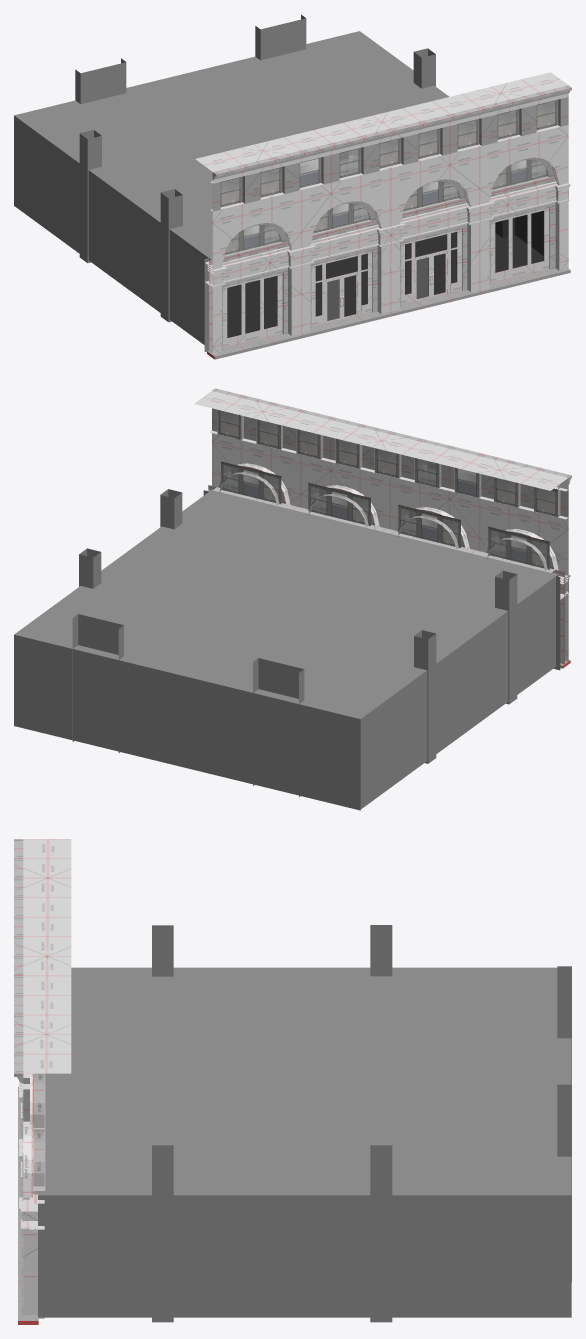
File: B_Shop_03_a.FBX
3 views of the same model, one above another, from view 1: azimuth 30°, elevation 25°; view 2: azimuth 150°, elevation 25°; view 3: azimuth 270°, elevation 25° (orthographic). The views are drawn at different scales.
Visible parts, largest first — view 1: floor_01b, B_03_3x_a, windows_03a, floor_01b_extra, Object008, B_02_border_b, B_01_border_t, d3, d1, d4, d2; view 2: floor_01b, B_03_3x_a, floor_01b_extra, B_01_border_t; view 3: floor_01b, B_03_3x_a, floor_01b_extra, B_01_border_t, B_02_border_b, Object008.
Boxes of the visible parts, x1,y1,x2,y2 form: floor_01b: (14, 31, 543, 344); B_03_3x_a: (195, 72, 568, 355); windows_03a: (223, 208, 549, 348); floor_01b_extra: (75, 14, 514, 322); Object008: (207, 183, 570, 287); B_02_border_b: (207, 268, 570, 359); B_01_border_t: (212, 85, 571, 179); d3: (415, 255, 431, 301); d1: (325, 277, 341, 322); d4: (431, 251, 447, 297); d2: (342, 273, 358, 318); floor_01b: (14, 489, 558, 810); B_03_3x_a: (194, 391, 568, 670); floor_01b_extra: (72, 489, 517, 796); B_01_border_t: (212, 388, 571, 484); floor_01b: (38, 967, 571, 1317); B_03_3x_a: (23, 839, 71, 1318); floor_01b_extra: (152, 925, 571, 1322); B_01_border_t: (14, 839, 23, 1083); B_02_border_b: (18, 1086, 38, 1324); Object008: (19, 1081, 37, 1228).
Size of the model in its own units: 60.01 by 30 by 60.35.
